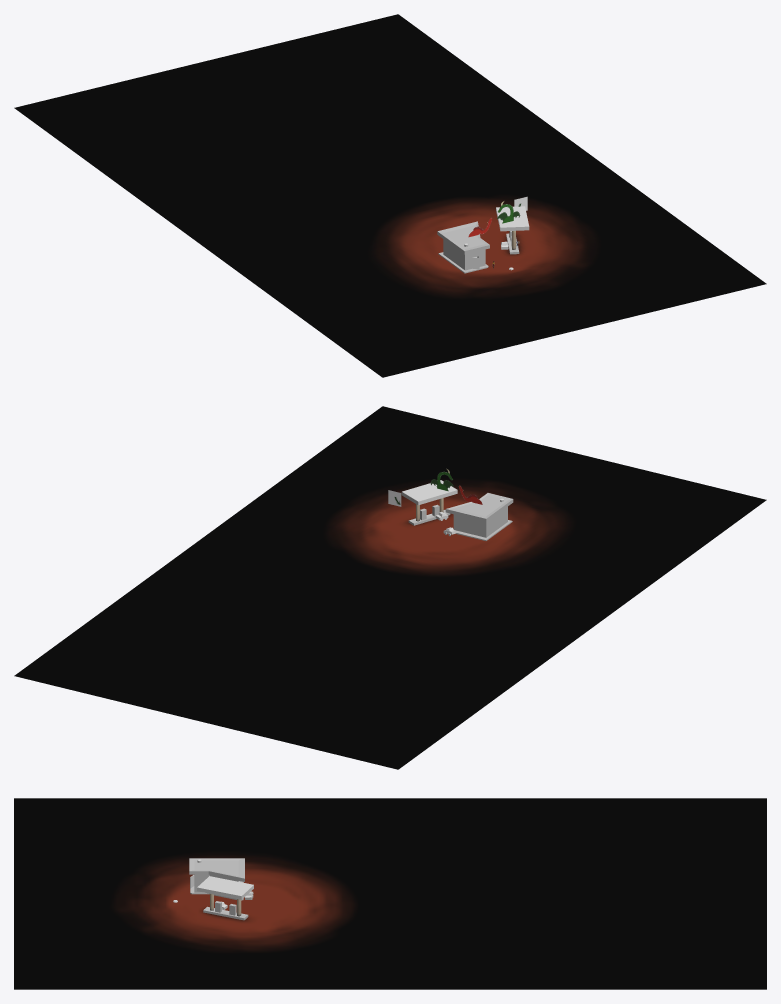
The picture shows the model from 3 angles, top to bottom: view 1: azimuth 30°, elevation 25°; view 2: azimuth 150°, elevation 25°; view 3: azimuth 270°, elevation 25°; orthographic projection. The views are drawn at different scales.
Parts seen in each view (by area): view 1: floor_near.002, building.002; view 2: floor_near.002, building.002, carport_roof.001; view 3: floor_near.002, building.002, carport_roof.001, carport_base.002.
Part boxes in pixels (<box>): floor_near.002: <box>14,14,766,377</box>; building.002: <box>437,221,489,273</box>; floor_near.002: <box>14,406,766,769</box>; building.002: <box>445,493,513,540</box>; carport_roof.001: <box>401,480,457,505</box>; floor_near.002: <box>14,798,766,989</box>; building.002: <box>189,858,244,900</box>; carport_roof.001: <box>197,876,253,899</box>; carport_base.002: <box>203,901,248,920</box>.
Size of what is drawn, in the model's own units: 21949 by 3080 by 36469.
